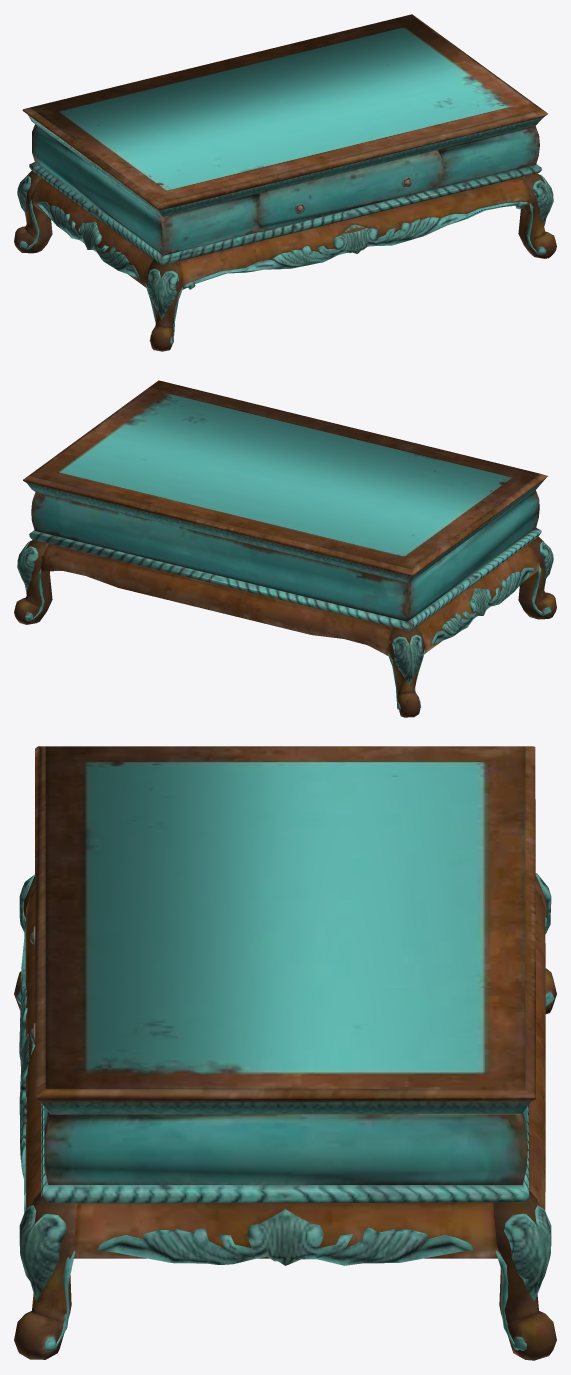
The model's file is CoffeeTable_01_lod1.glb.
3 renders of one model, top to bottom at view 1: azimuth 30°, elevation 25°; view 2: azimuth 150°, elevation 25°; view 3: azimuth 270°, elevation 25°, orthographic. The views are drawn at different scales.
Visible parts, largest first — view 1: CoffeeTable_01; view 2: CoffeeTable_01; view 3: CoffeeTable_01.
Boxes of the visible parts, x1,y1,x2,y2 form: CoffeeTable_01: (14, 14, 556, 351); CoffeeTable_01: (14, 380, 556, 717); CoffeeTable_01: (14, 746, 556, 1360).
Bounding box in the file's own units: 1.54 × 0.5212 × 0.9728.
Materials: 1 (1 with a texture image).
